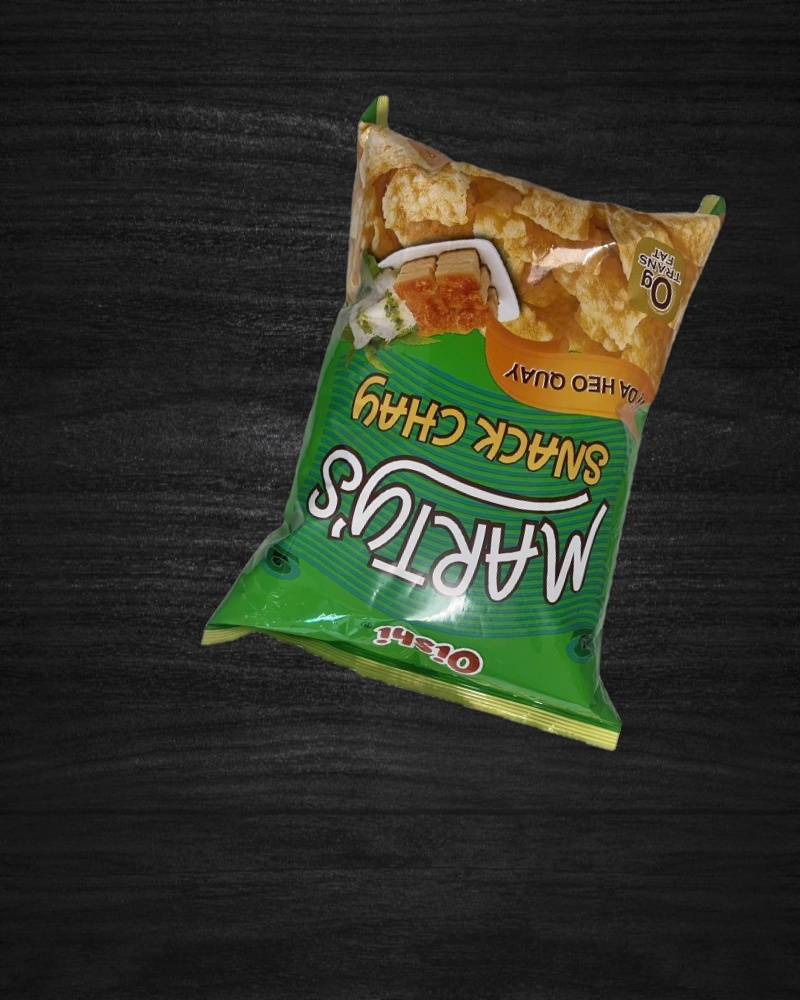Snack chay: (220, 93, 762, 756)
